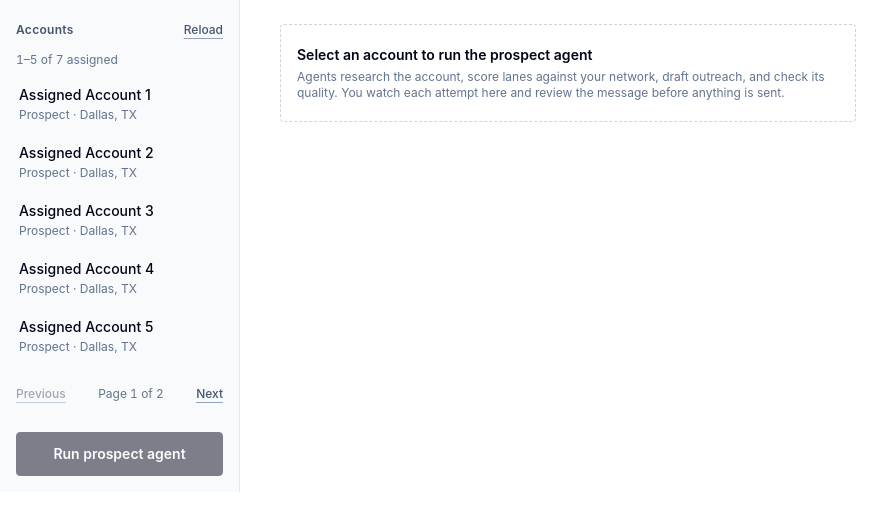
Test: ProspectWorkspace account selection and progress › clears a removed selection and clamps the page after reload
Expected: the button "Assigned Account 1 Prospect · Dallas, TX" is shown, [8,76,231,132]
Click the button "Next": (210, 394) [196,372,223,416]
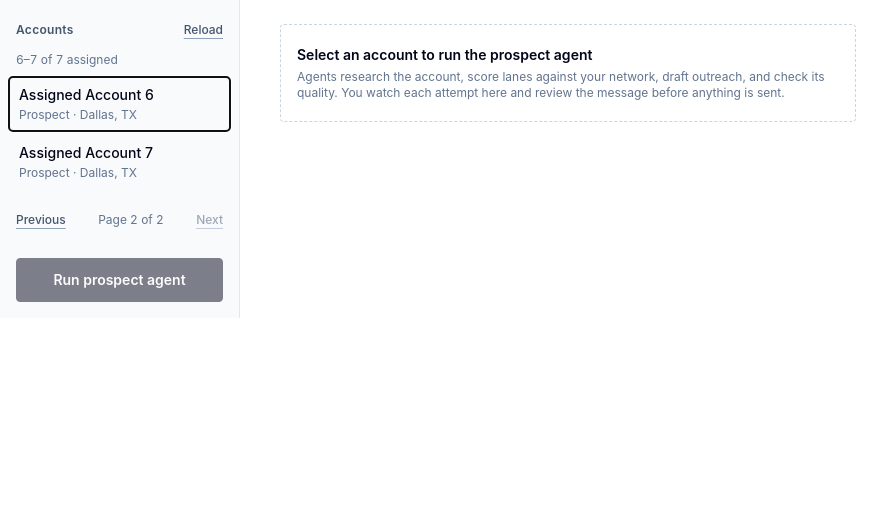
Click the button "Assigned Account 7 Prospect · Dallas, TX": (120, 162) [8,134,231,190]
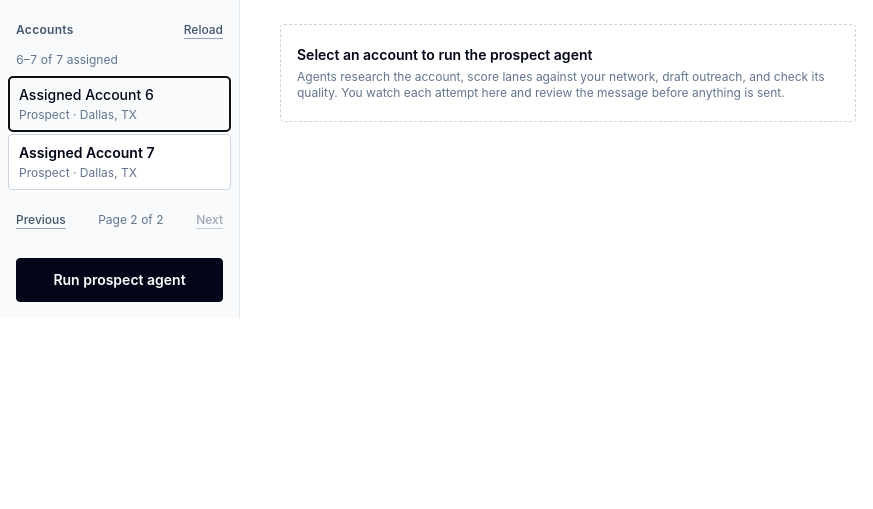
Click the button with aria-label "Reload accounts": (203, 30) [184,8,223,52]
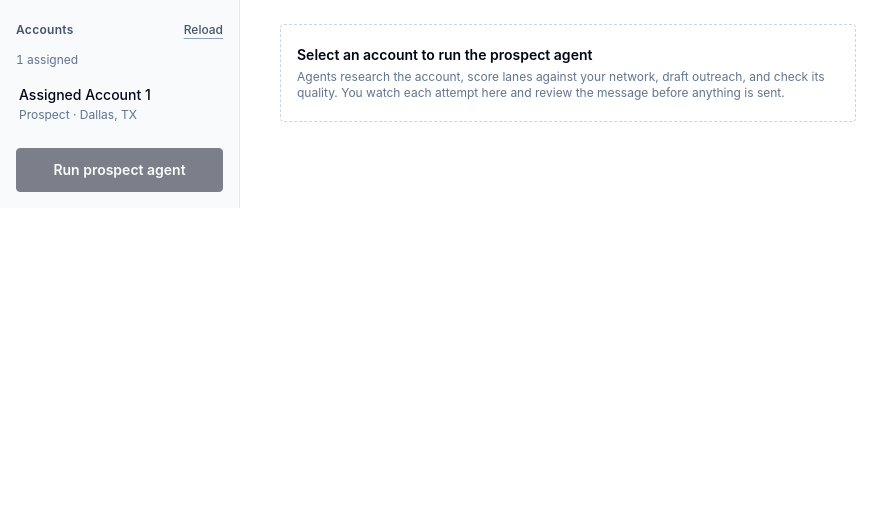
Expected: the button "Run prospect agent" is disabled, [16,148,223,192]
